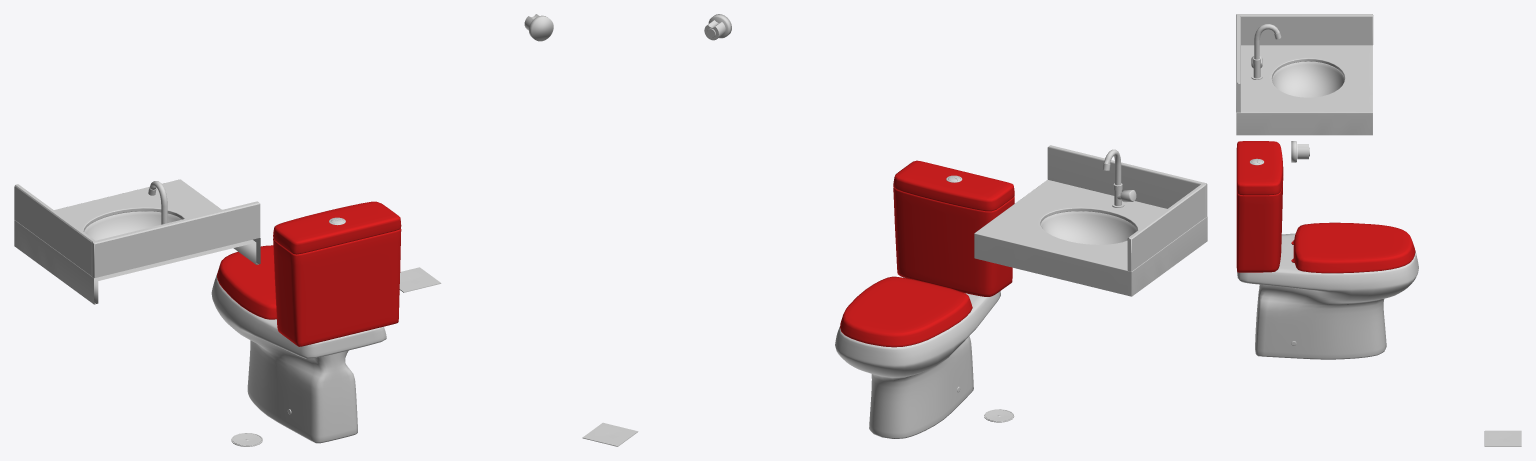
The model's file is SD_BanheiroSocial_ObjetosReflex.fbx.
3 renders of one model, left to right at view 1: azimuth 30°, elevation 25°; view 2: azimuth 150°, elevation 25°; view 3: azimuth 270°, elevation 25°, orthographic. The views are drawn at different scales.
Parts seen in each view (by area): view 1: SD_BanheiroSocial_ObjetosReflex; view 2: SD_BanheiroSocial_ObjetosReflex; view 3: SD_BanheiroSocial_ObjetosReflex.
Boxes of the visible parts, x1,y1,x2,y2 form: SD_BanheiroSocial_ObjetosReflex: (14,14,553,446); SD_BanheiroSocial_ObjetosReflex: (582,14,1207,446); SD_BanheiroSocial_ObjetosReflex: (1236,14,1521,446).
Size of the model in its own units: 178 by 121 by 104.
